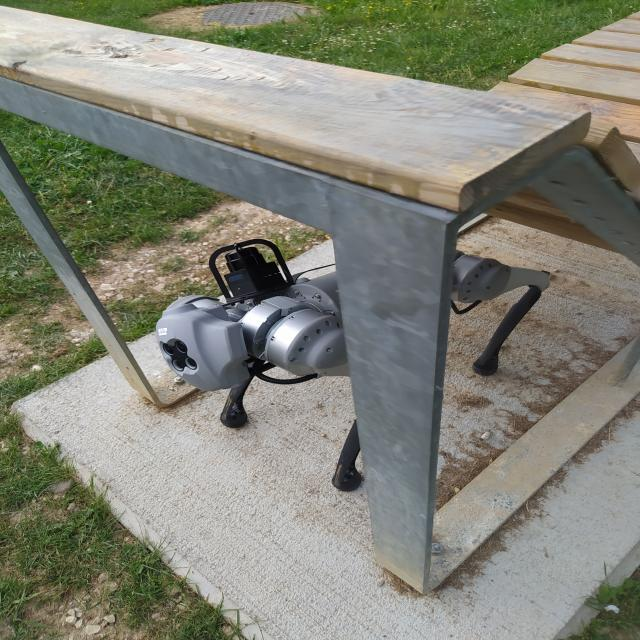unitree-go1-robot: (142, 228, 560, 496)
